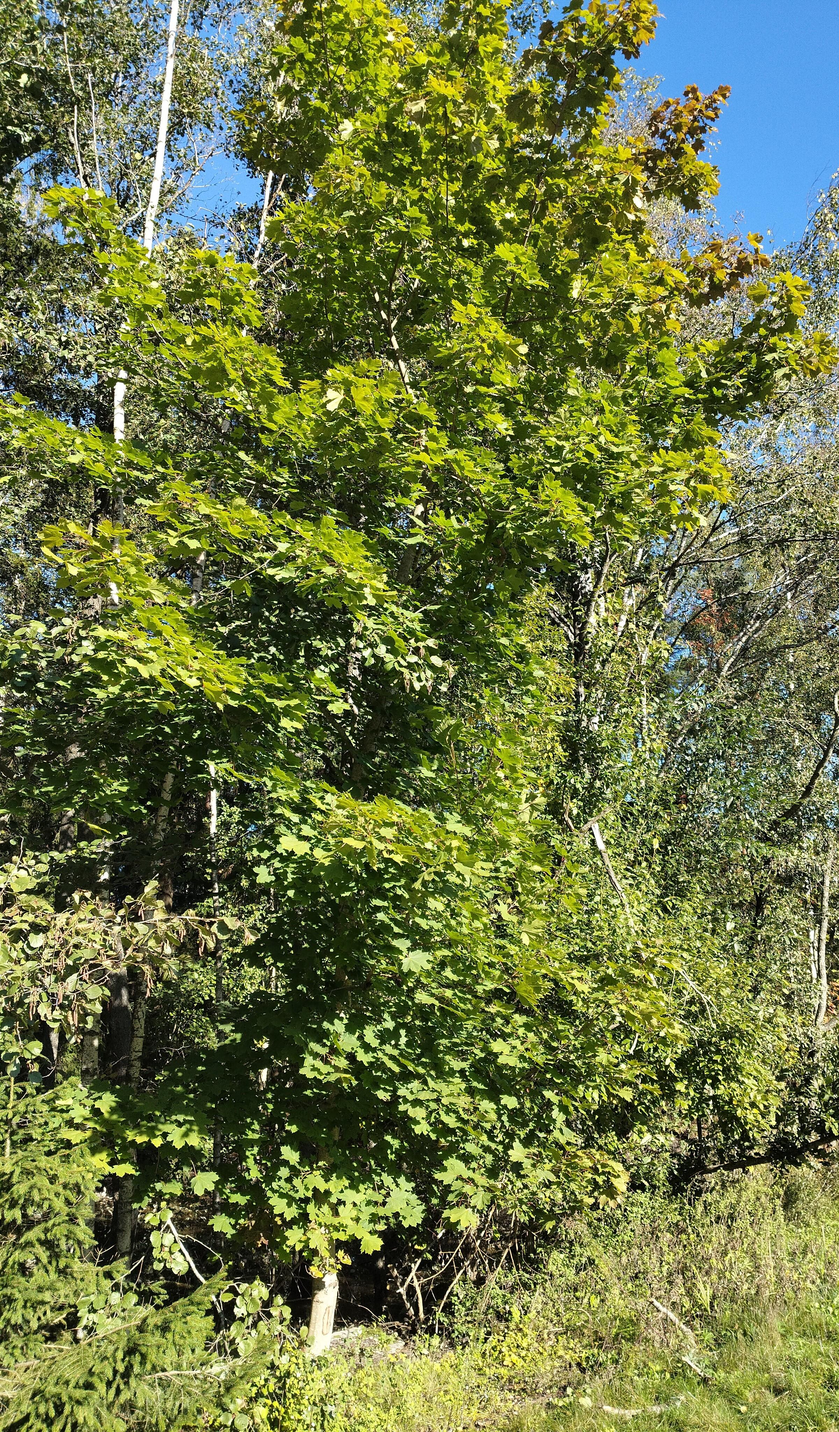Maple: (181, 0, 694, 1419)
